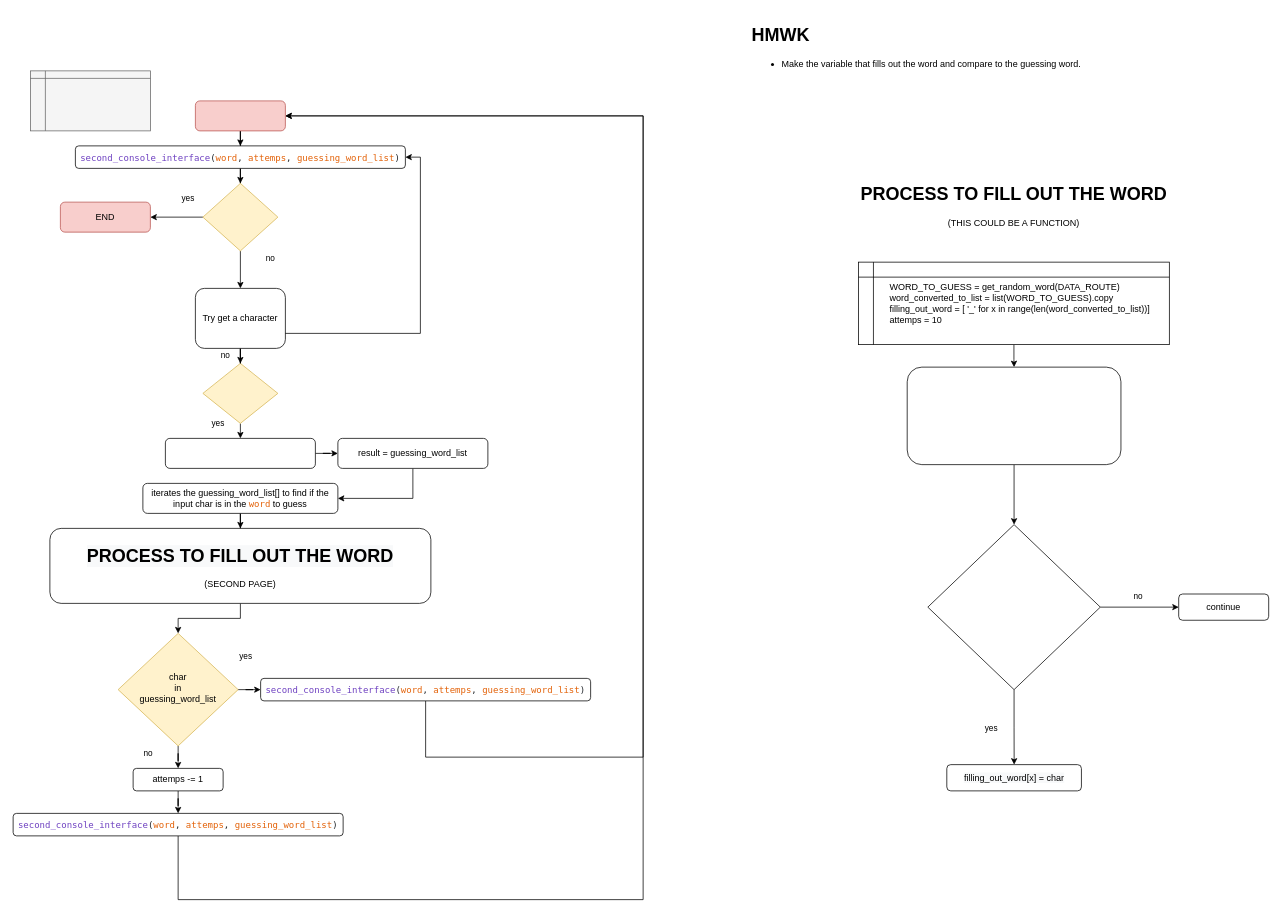
This 1283x919 diagram has some shape labels left out. The box of each missing label's shape, as (x1, y1, x2, y2) in pixels:
attemps == 0: (202, 183, 278, 251)
char == word_converted_to_list[ x ]: (927, 524, 1100, 690)
for x in range(len(word_converted_to_list)):: (906, 366, 1121, 465)
guessing_word_list = [append each position of the word ]: (165, 438, 315, 468)
if not slpha(): (202, 363, 278, 423)
START: (195, 100, 285, 131)
word attemps = 10 guessing_word_list: (30, 70, 150, 131)
